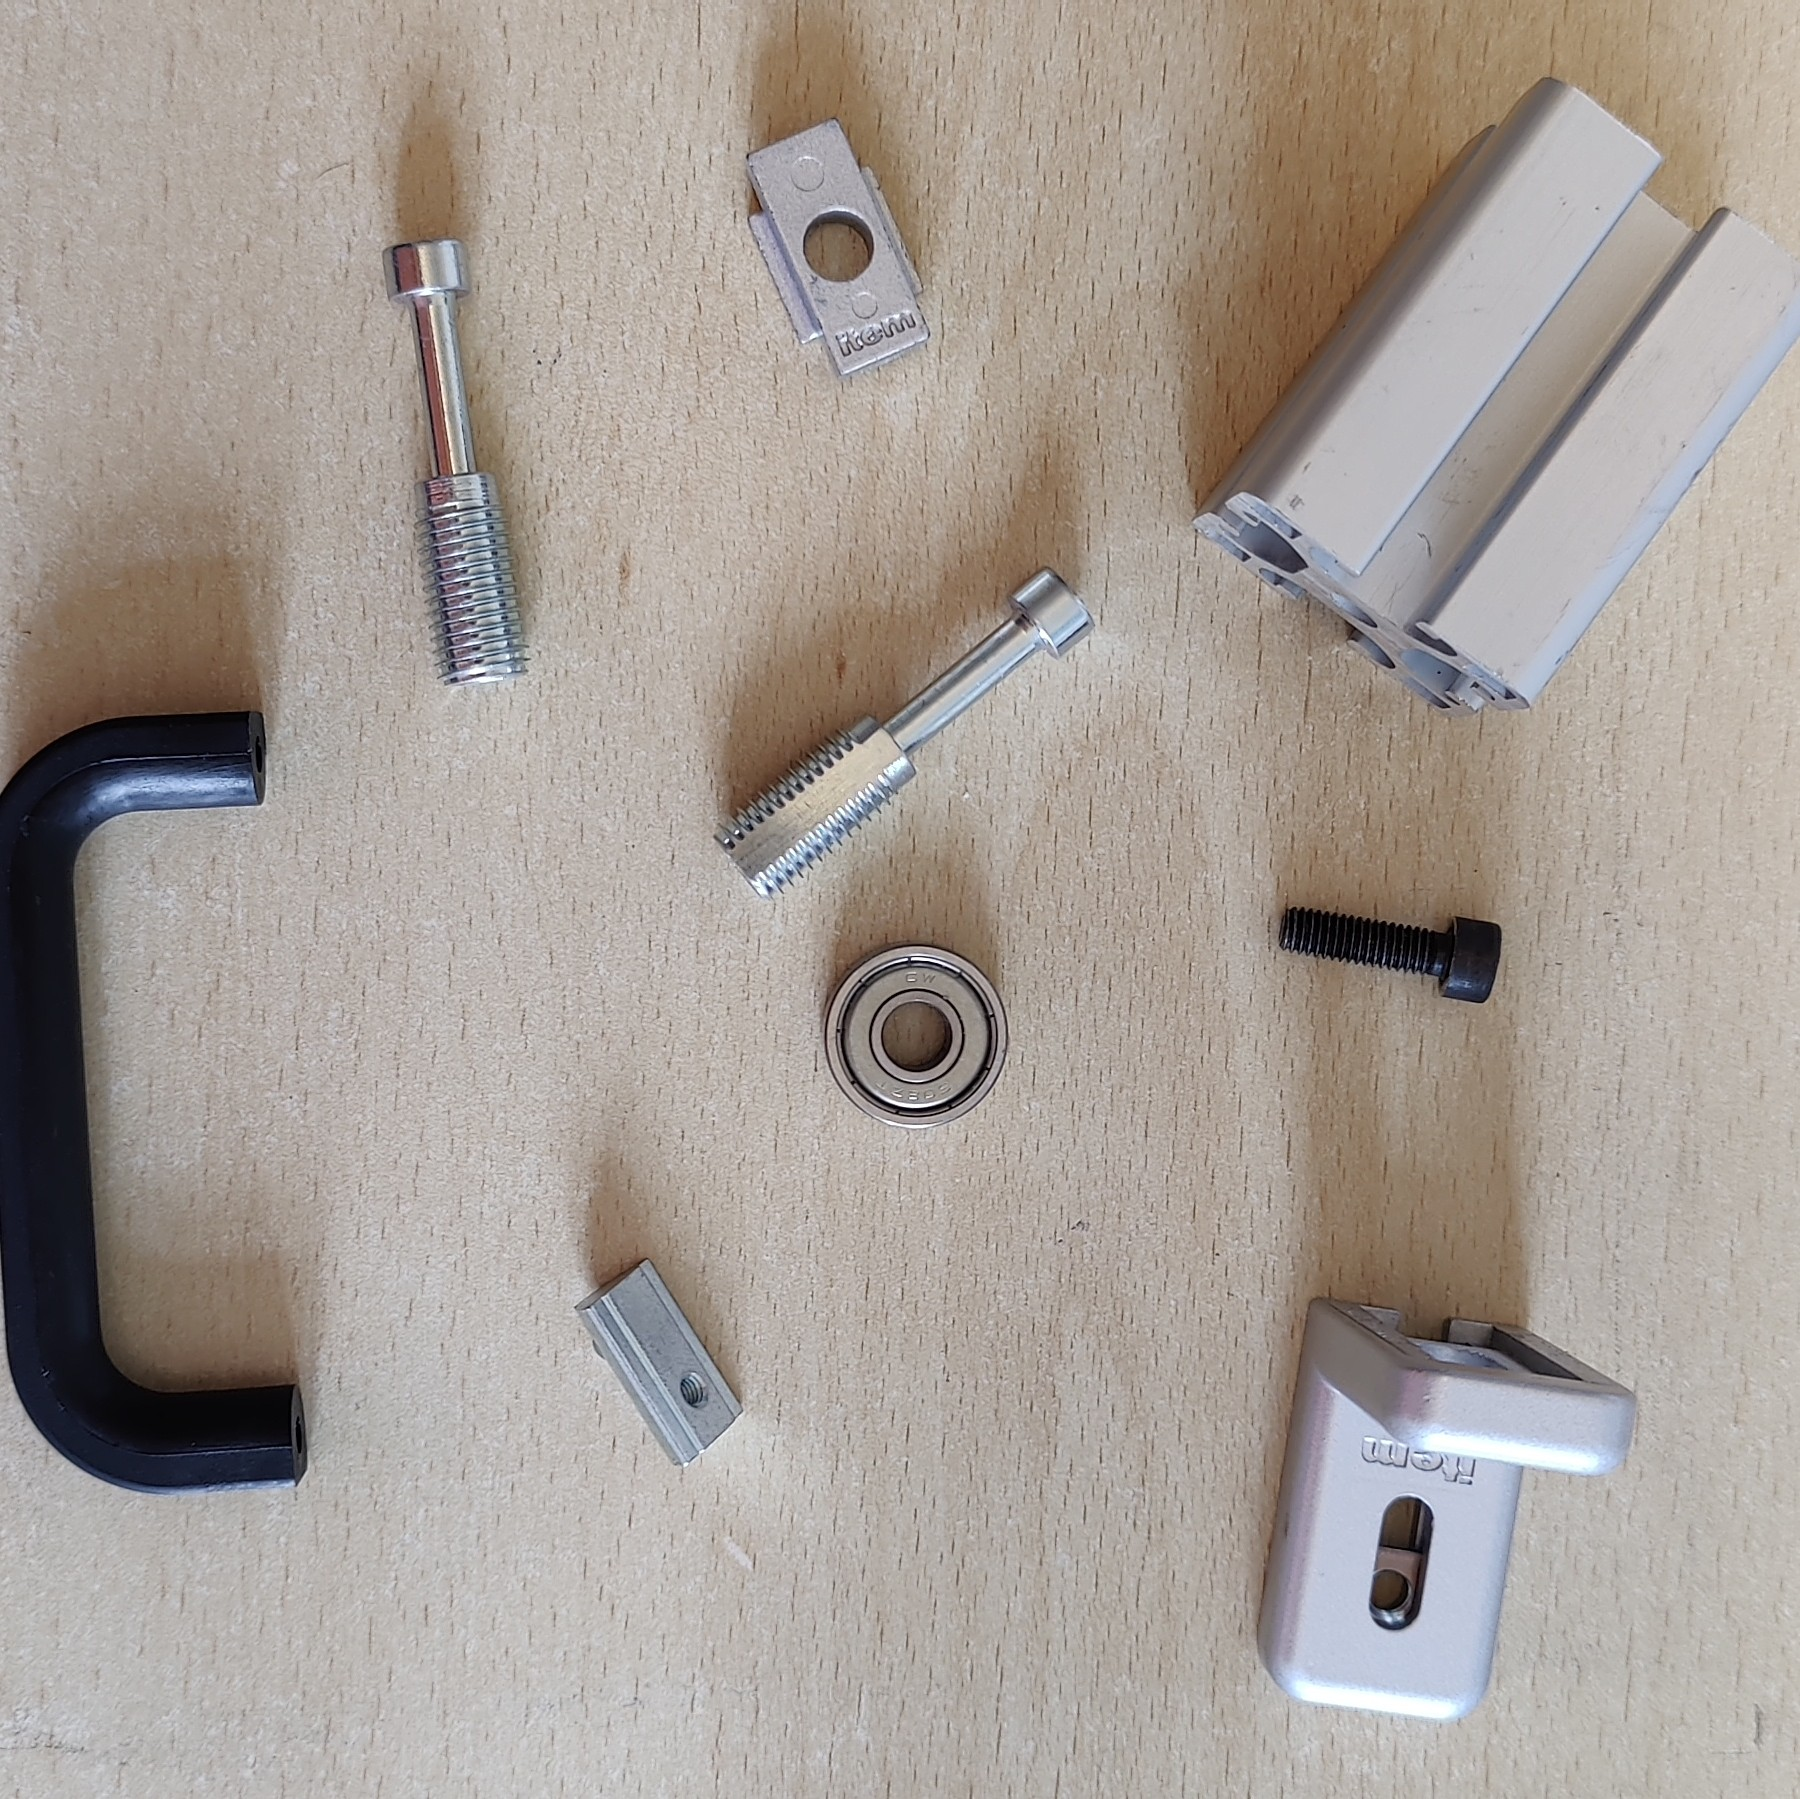Aluminium Extension: (1189, 72, 1800, 718)
Ball Bearing: (823, 941, 1013, 1133)
Multiwinkel: (1253, 1292, 1642, 1723)
Pull Handle: (2, 707, 311, 1498)
Shoulder Socket Head Cap Screw: (708, 563, 1098, 899), (377, 237, 532, 690)
Socket Head Cap Screw: (1275, 898, 1504, 1007)
T Nut Square: (743, 114, 932, 379)
T Spring Nut: (571, 1254, 746, 1468)
